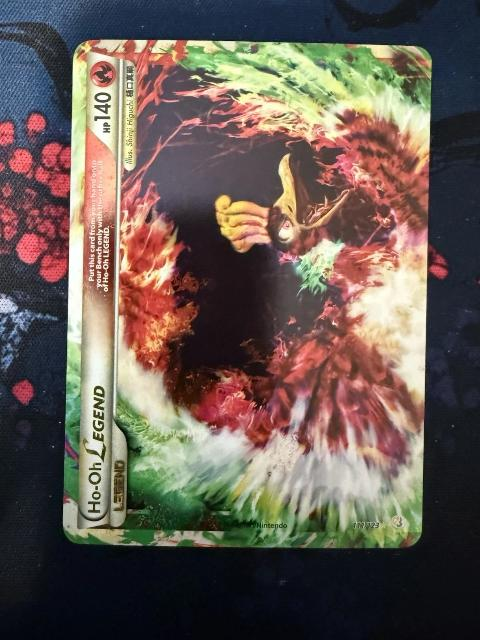Card: (60, 36, 436, 550)
Name: (78, 380, 114, 519)
